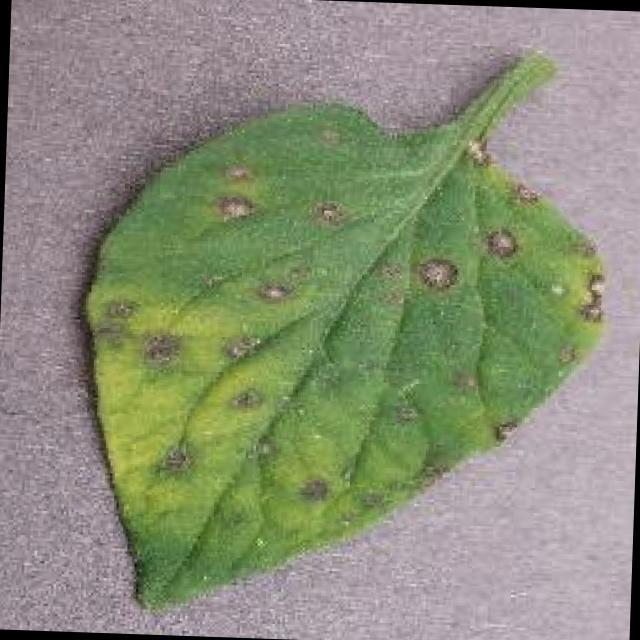Tomato Septoria spot leaf: (71, 98, 607, 630)
